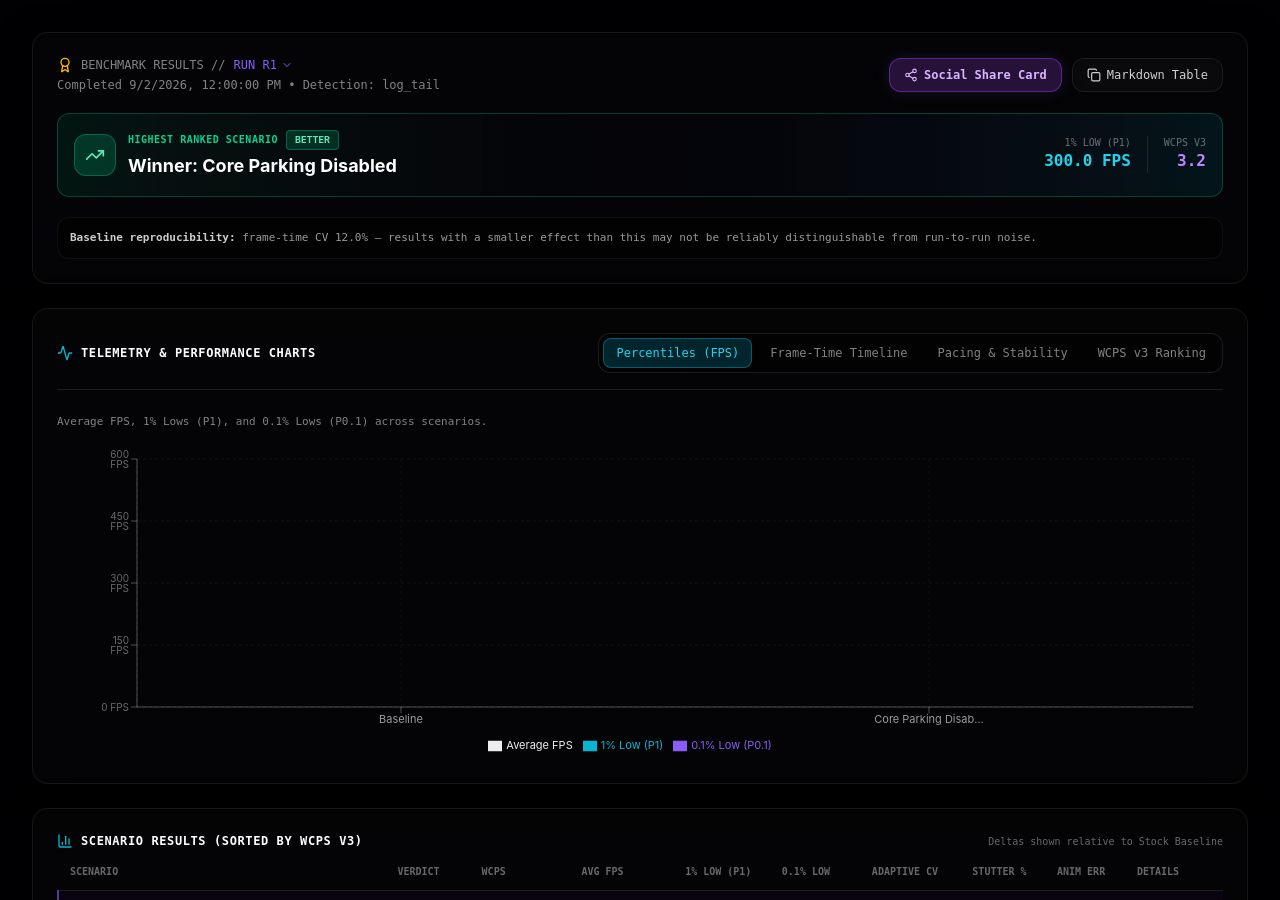
Test case: ResultsVisualizer › switches to the clicked run and closes the dropdown
The width and height of the screenshot is (1280, 900).
Click the button "RUN r1".
click(263, 65)  # box [234, 57, 293, 73]
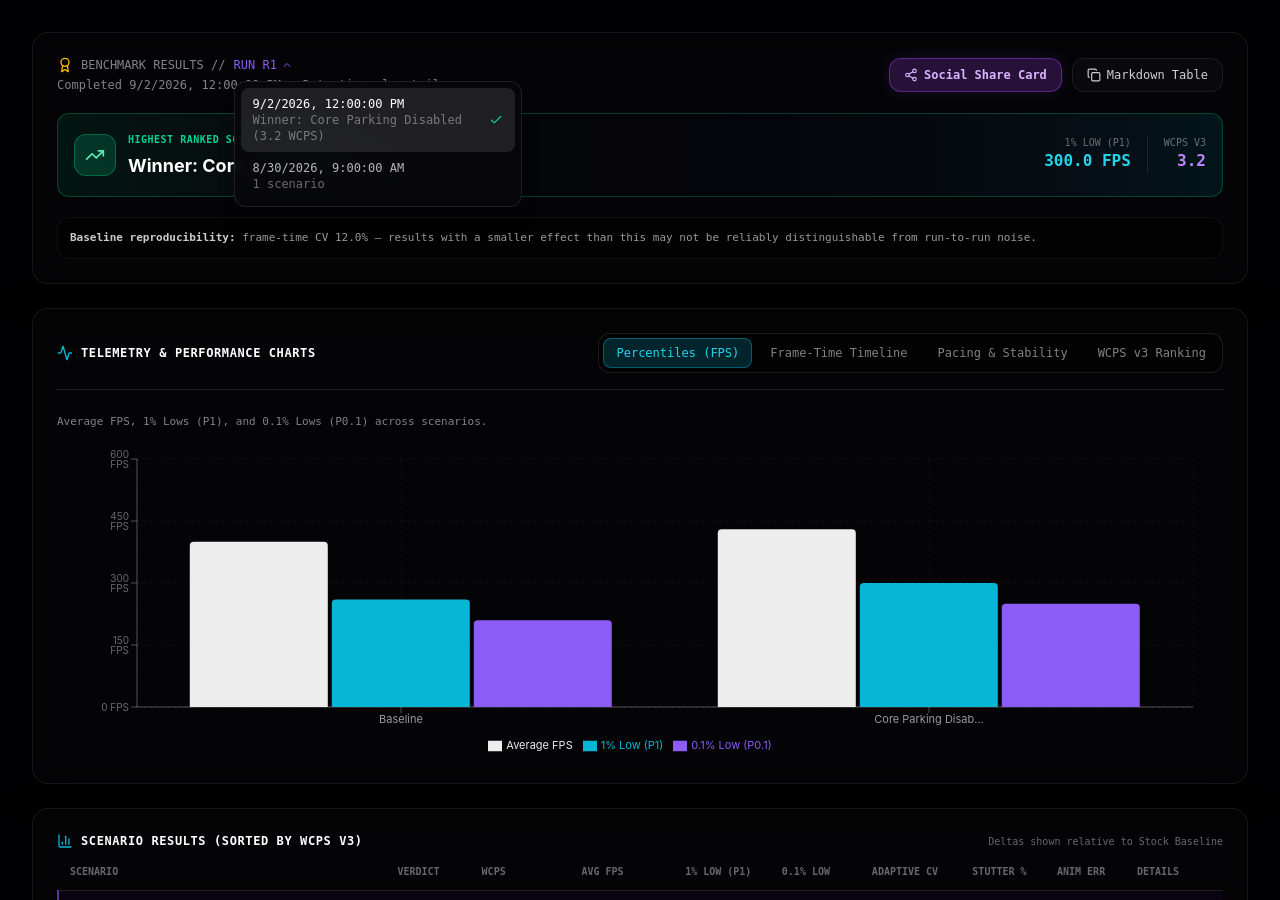
Click the text "1 scenario".
click(289, 184)  # box [252, 177, 325, 191]
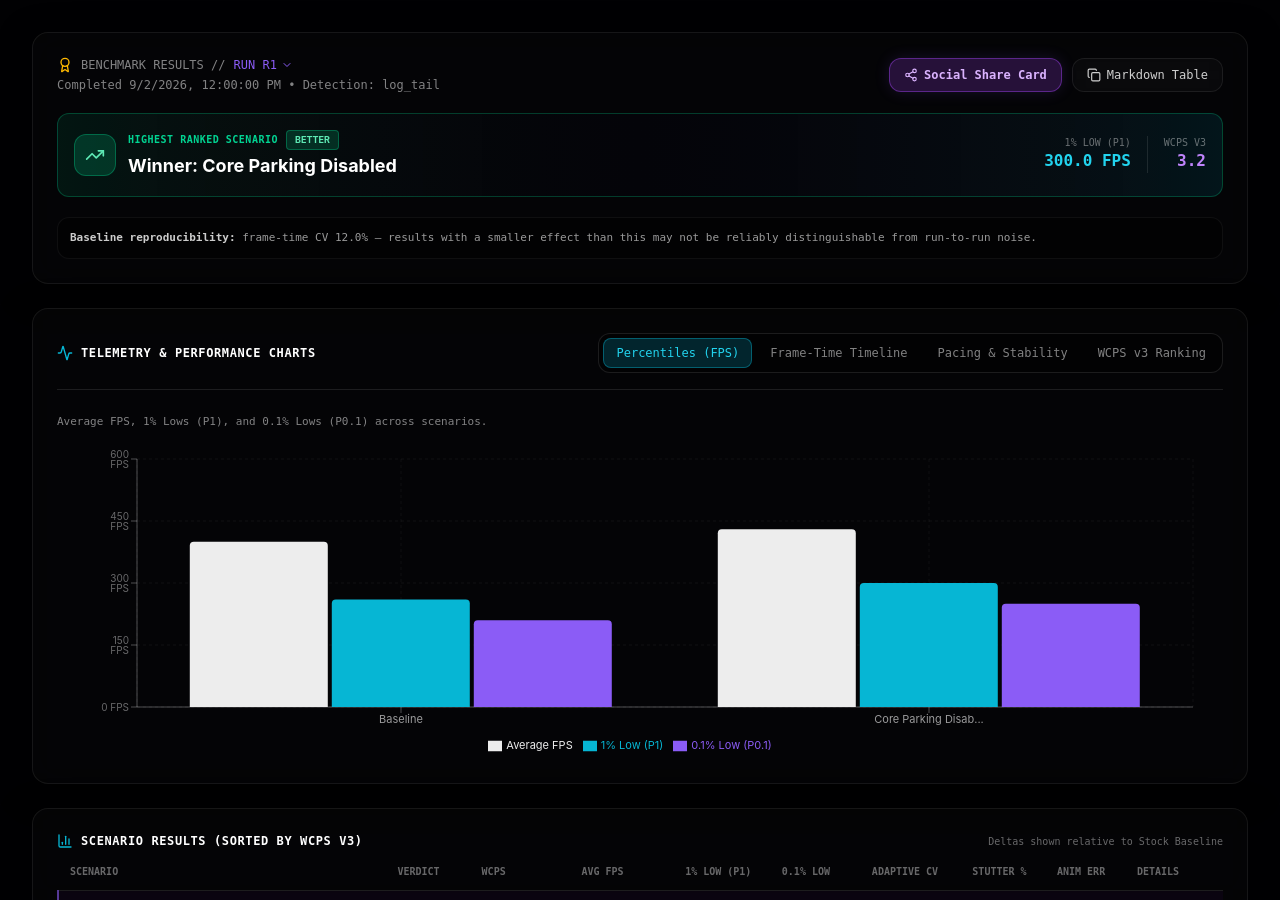
Result: the button "1 scenario" is gone
